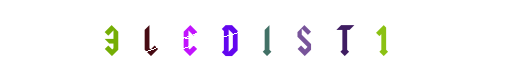1: (273, 0, 353, 80)
3: (108, 0, 188, 80)
C: (184, 0, 264, 80)
D: (186, 0, 266, 80)
I: (189, 0, 269, 80)
L: (158, 0, 238, 80)
S: (215, 0, 295, 80)
T: (258, 0, 338, 80)
